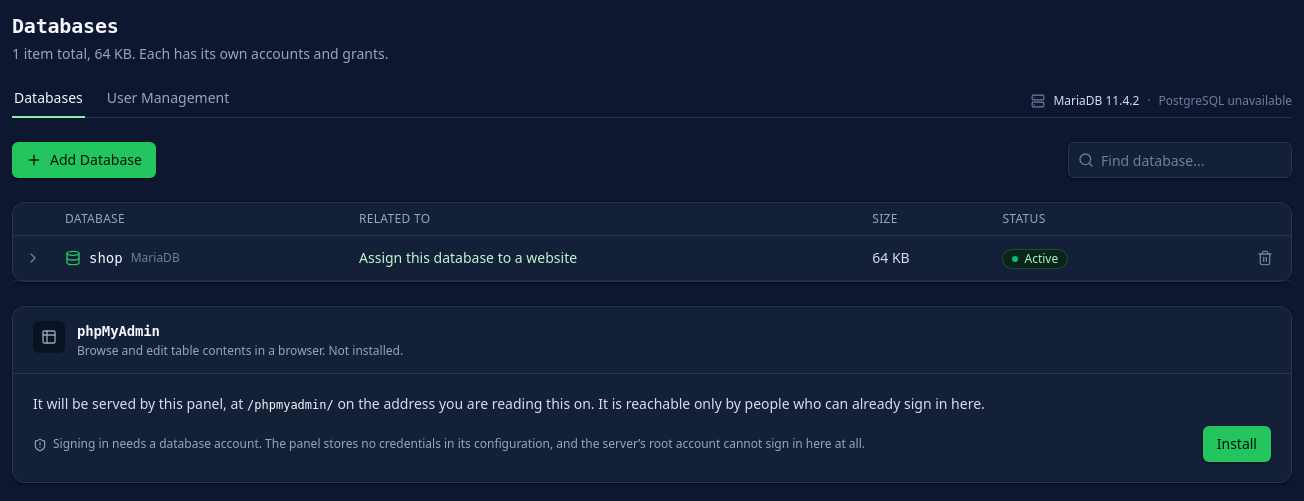
Test case: DatabasesPage › shows the account that may reach a database on the users tab
Expected: the button "shop" is shown, [89,248,123,268]
Click the tab "User Management". click: (168, 103)
box: [105,88,231,118]
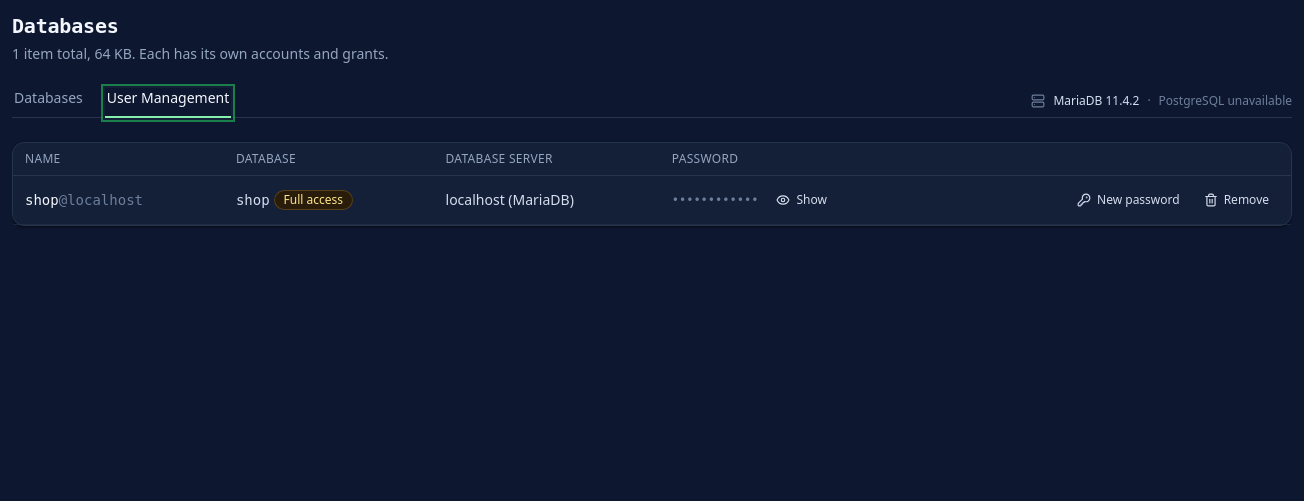
Now the text "Full access" is shown, box [274,190,353,210]
Now the text "@localhost" is shown, box [59,192,143,208]
